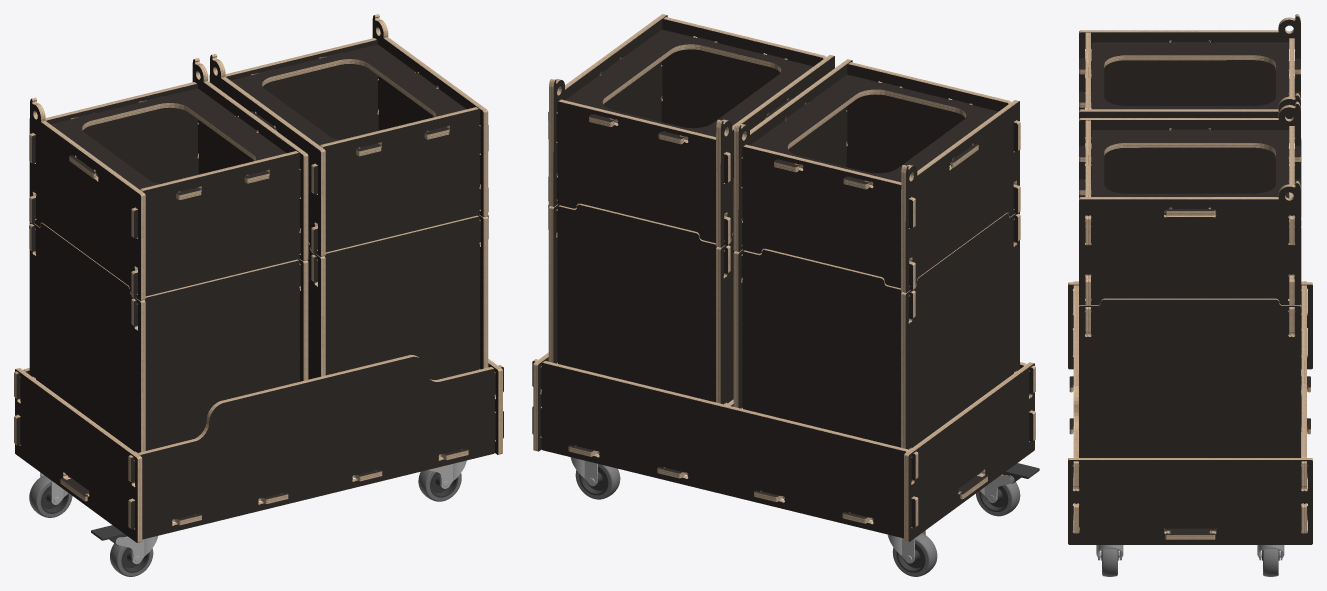
Rendered from Sorter_20-B2-Karkass_v2.glb.
The picture shows the model from 3 angles, left to right: view 1: azimuth 30°, elevation 25°; view 2: azimuth 150°, elevation 25°; view 3: azimuth 270°, elevation 25°; orthographic projection. The views are drawn at different scales.
Parts seen in each view (by area): view 1: Shape234 (×2), Shape074, Shape227 (×2), Shape228 (×4), Shape237 (×4), Shape226 (×2), Shape233 (×2), Shape097 (×2), Shape076, Brake_7800_Swede-Wheel014, Tread_3605020066GS_Swede-Wheel_3605020066GS_Swede-Wheel_6_Ob; view 2: Shape236 (×2), Shape078, Shape226 (×2), Shape228 (×4), Shape237 (×4), Shape227 (×2), Shape233 (×2), Shape097 (×2), Shape076, Brake_7800_Swede-Wheel014, Tread_3605020066GS_Swede-Wheel_3605020066GS_Swede-Wheel_6_Ob; view 3: Shape228 (×4), Shape237, Shape097 (×2), Shape233 (×2), Shape074, Shape078, Shape227 (×2), Shape226 (×2), Shape076, Tread_3605020066GS_Swede-Wheel014, Tread_3605020066GS_Swede-Wheel_3605020066GS_Swede-Wheel_6_Ob.
Boxes of the visible parts, left/top/right/bottom form: Shape234 (×2): left=131, top=215, right=488, bottom=453; Shape074: left=128, top=355, right=503, bottom=539; Shape227 (×2): left=131, top=107, right=488, bottom=298; Shape228 (×4): left=29, top=14, right=488, bottom=300; Shape237 (×4): left=29, top=215, right=488, bottom=452; Shape226 (×2): left=29, top=38, right=378, bottom=223; Shape233 (×2): left=51, top=44, right=466, bottom=199; Shape097 (×2): left=15, top=359, right=502, bottom=542; Shape076: left=60, top=449, right=468, bottom=525; Brake_7800_Swede-Wheel014: left=91, top=525, right=142, bottom=564; Tread_3605020066GS_Swede-Wheel_3605020066GS_Swede-Wheel_6_Ob: left=29, top=475, right=72, bottom=517; Shape236 (×2): left=548, top=203, right=915, bottom=449; Shape078: left=532, top=359, right=918, bottom=538; Shape226 (×2): left=548, top=99, right=915, bottom=290; Shape228 (×4): left=548, top=14, right=1019, bottom=292; Shape237 (×4): left=548, top=203, right=1019, bottom=449; Shape227 (×2): left=661, top=17, right=1020, bottom=213; Shape233 (×2): left=565, top=29, right=998, bottom=189; Shape097 (×2): left=533, top=352, right=1034, bottom=541; Shape076: left=568, top=445, right=987, bottom=523; Brake_7800_Swede-Wheel014: left=987, top=463, right=1039, bottom=502; Tread_3605020066GS_Swede-Wheel_3605020066GS_Swede-Wheel_6_Ob: left=892, top=533, right=937, bottom=576; Shape228 (×4): left=1079, top=14, right=1300, bottom=305; Shape237: left=1079, top=298, right=1301, bottom=528; Shape097 (×2): left=1068, top=282, right=1312, bottom=544; Shape233 (×2): left=1079, top=40, right=1300, bottom=215; Shape074: left=1073, top=281, right=1078, bottom=533; Shape078: left=1301, top=281, right=1306, bottom=533; Shape227 (×2): left=1085, top=32, right=1090, bottom=305; Shape226 (×2): left=1289, top=38, right=1294, bottom=305; Shape076: left=1069, top=376, right=1310, bottom=539; Tread_3605020066GS_Swede-Wheel014: left=1102, top=548, right=1117, bottom=576; Tread_3605020066GS_Swede-Wheel_3605020066GS_Swede-Wheel_6_Ob: left=1263, top=548, right=1278, bottom=576.
Size of the model in its own units: 0.5099 by 0.5116 by 0.2786.
5 materials, 1 textured.
